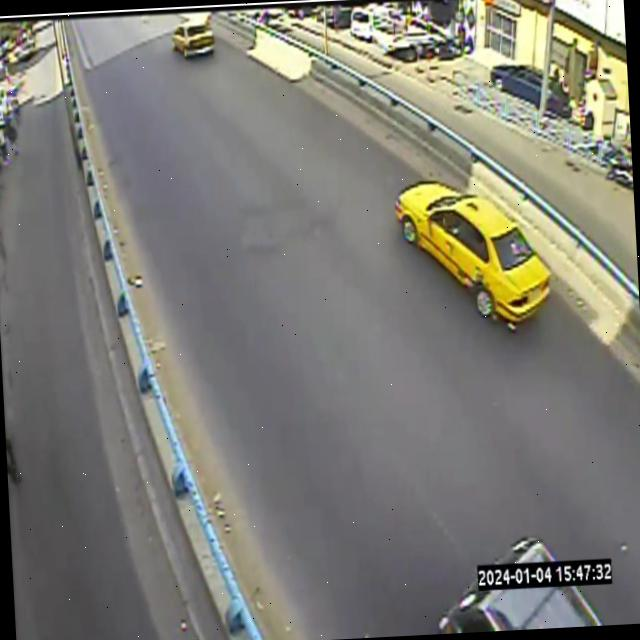car: (374, 64, 639, 344), (391, 174, 555, 346)
